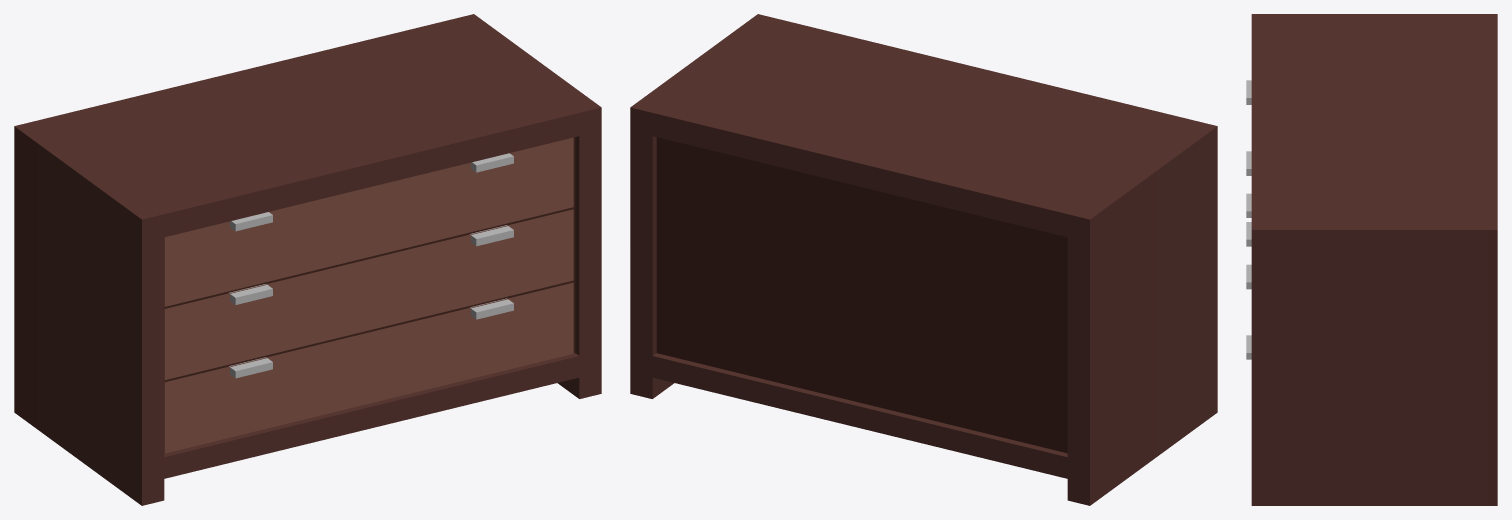
Rendered from shelf_001.glb.
The picture shows the model from 3 angles, left to right: view 1: azimuth 30°, elevation 25°; view 2: azimuth 150°, elevation 25°; view 3: azimuth 270°, elevation 25°; orthographic projection. The views are drawn at different scales.
Parts seen in each view (by area): view 1: shelf_001; view 2: shelf_001; view 3: shelf_001.
Part boxes in pixels (x1,y1,x2,y2): shelf_001: (14, 14, 601, 505); shelf_001: (630, 14, 1217, 505); shelf_001: (1246, 14, 1497, 505).
Bounding box in the file's own units: 1.22 × 0.7288 × 0.6024.
Materials: 1 (1 with a texture image).
